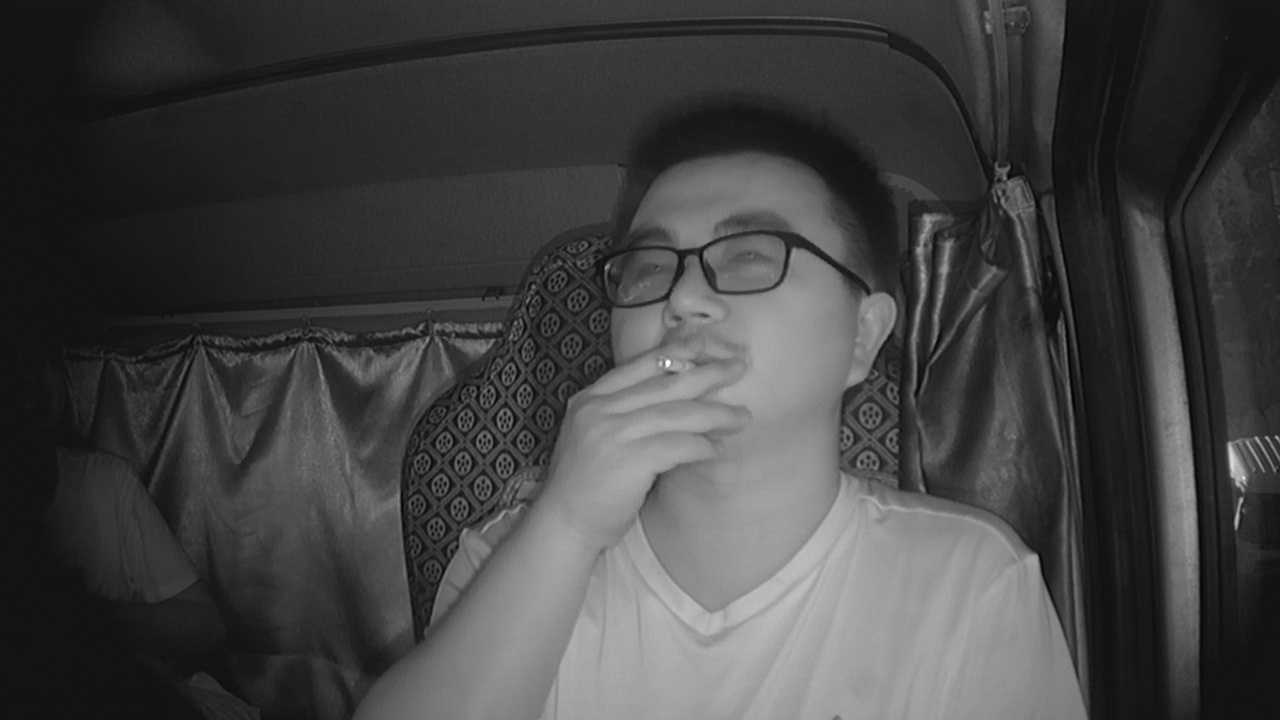hand: (596, 329, 737, 478)
